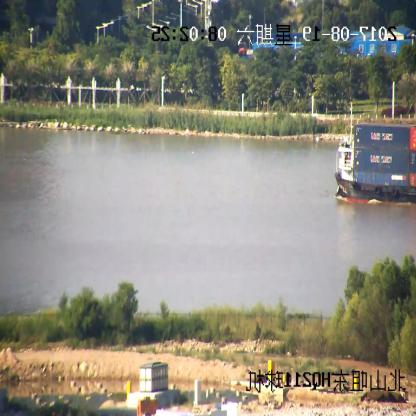Container Ship: (334, 103, 416, 203)
